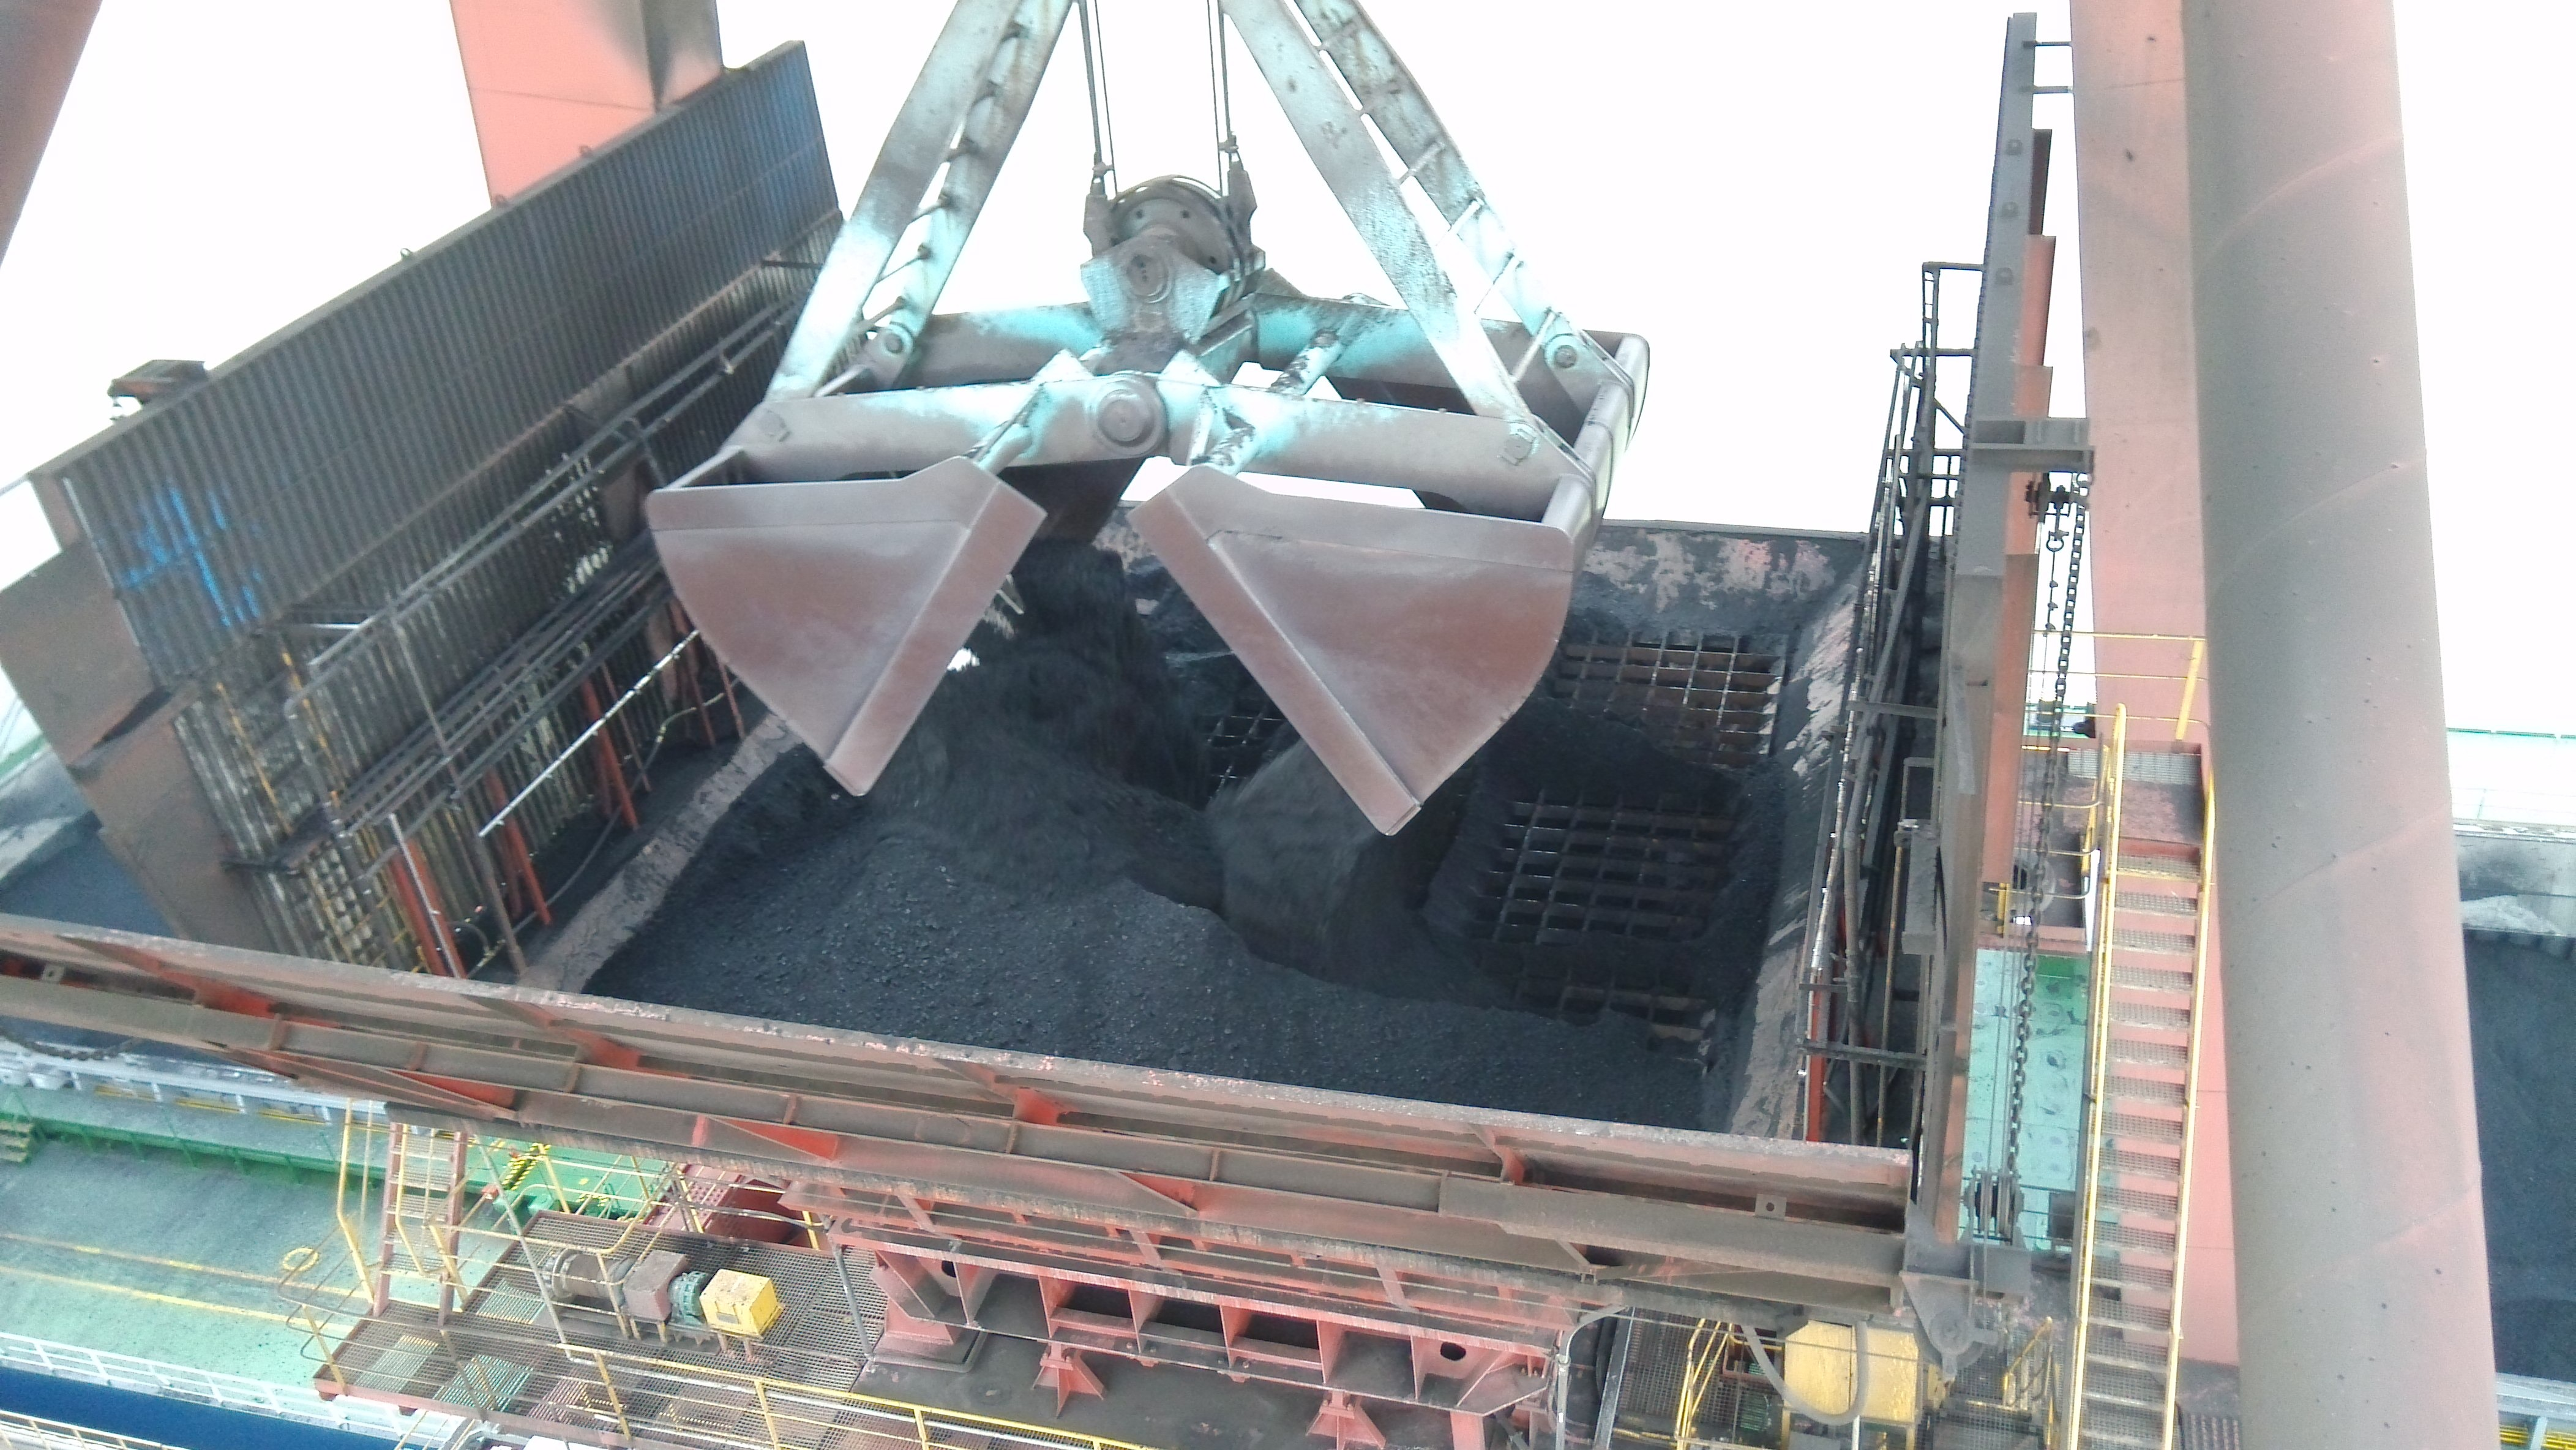grab: (639, 2, 1658, 841)
